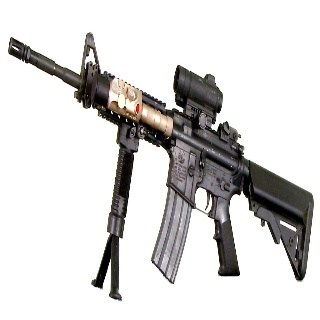rifle: (5, 29, 315, 302)
